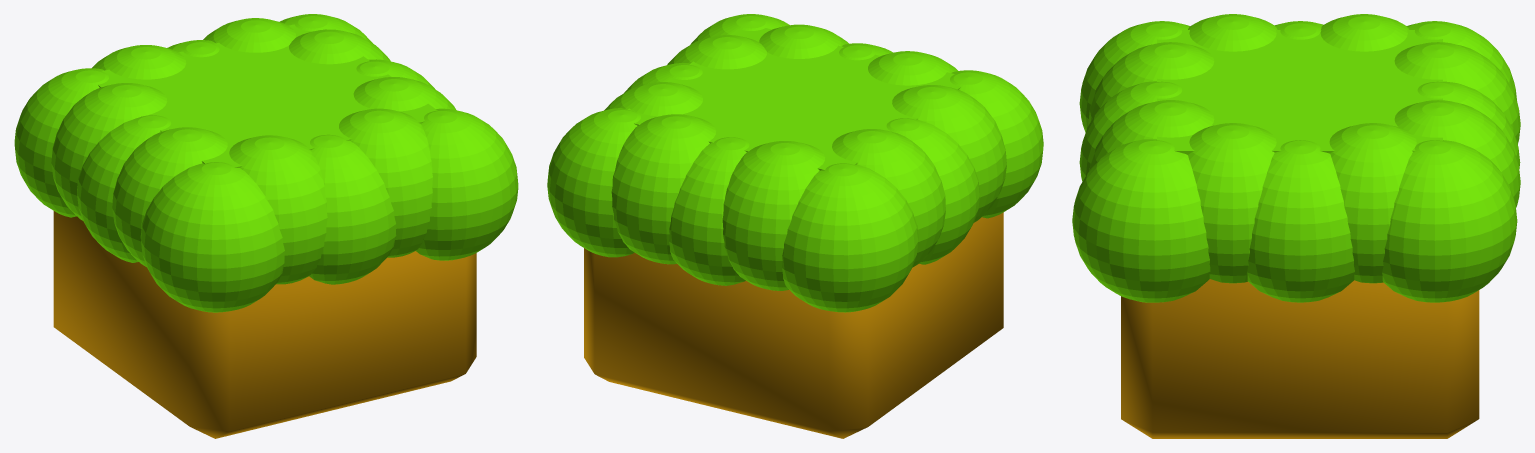
Rendered from platform.fbx.
The picture shows the model from 3 angles, left to right: view 1: azimuth 30°, elevation 25°; view 2: azimuth 150°, elevation 25°; view 3: azimuth 270°, elevation 25°; orthographic projection. The views are drawn at different scales.
Parts seen in each view (by area): view 1: Cube.006; view 2: Cube.006; view 3: Cube.006.
Boxes of the visible parts, x1,y1,x2,y2 form: Cube.006: [14, 14, 518, 438]; Cube.006: [547, 14, 1043, 438]; Cube.006: [1072, 14, 1520, 438].
Size of the model in its own units: 288 by 213 by 291.
